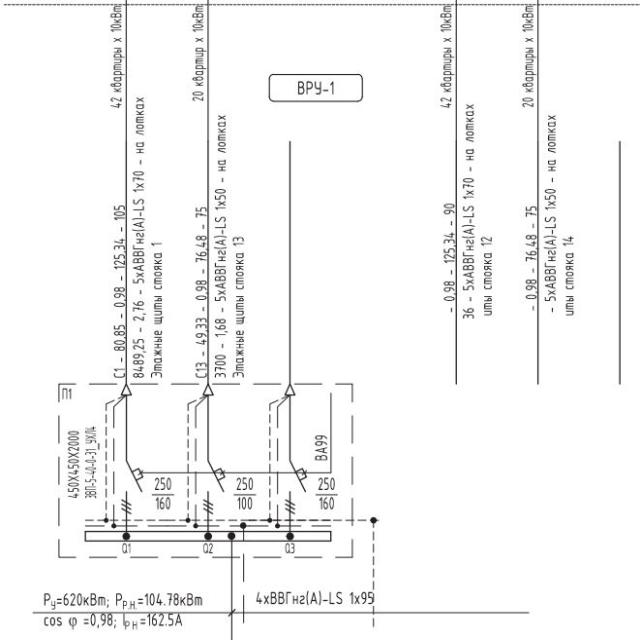-: (65, 422, 100, 501), (230, 476, 256, 514), (314, 475, 340, 513), (150, 474, 176, 512)
QF: (278, 462, 308, 518), (119, 460, 148, 516), (198, 460, 226, 516)
